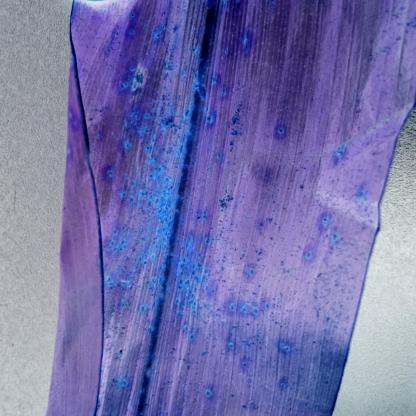Corn rust leaf: (69, 3, 416, 408)
